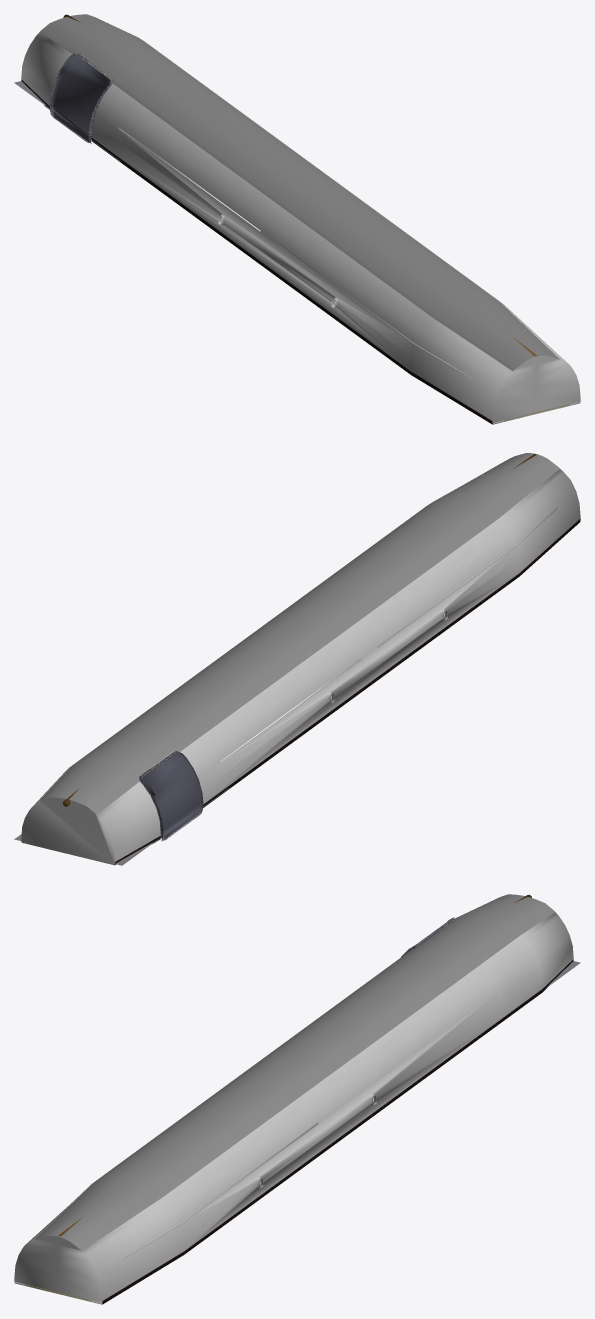
3 renders of one model, top to bottom at view 1: azimuth 30°, elevation 25°; view 2: azimuth 150°, elevation 25°; view 3: azimuth 330°, elevation 25°, orthographic.
Visible parts, largest first — view 1: static-material-0; view 2: static-material-0; view 3: static-material-0.
Part boxes in pixels (<box>): static-material-0: <box>14,14,580,424</box>; static-material-0: <box>14,453,580,865</box>; static-material-0: <box>14,894,580,1304</box>.
Size of the model in its own units: 5.94 by 3.26 by 42.53.
Materials: 3 (1 with a texture image).
